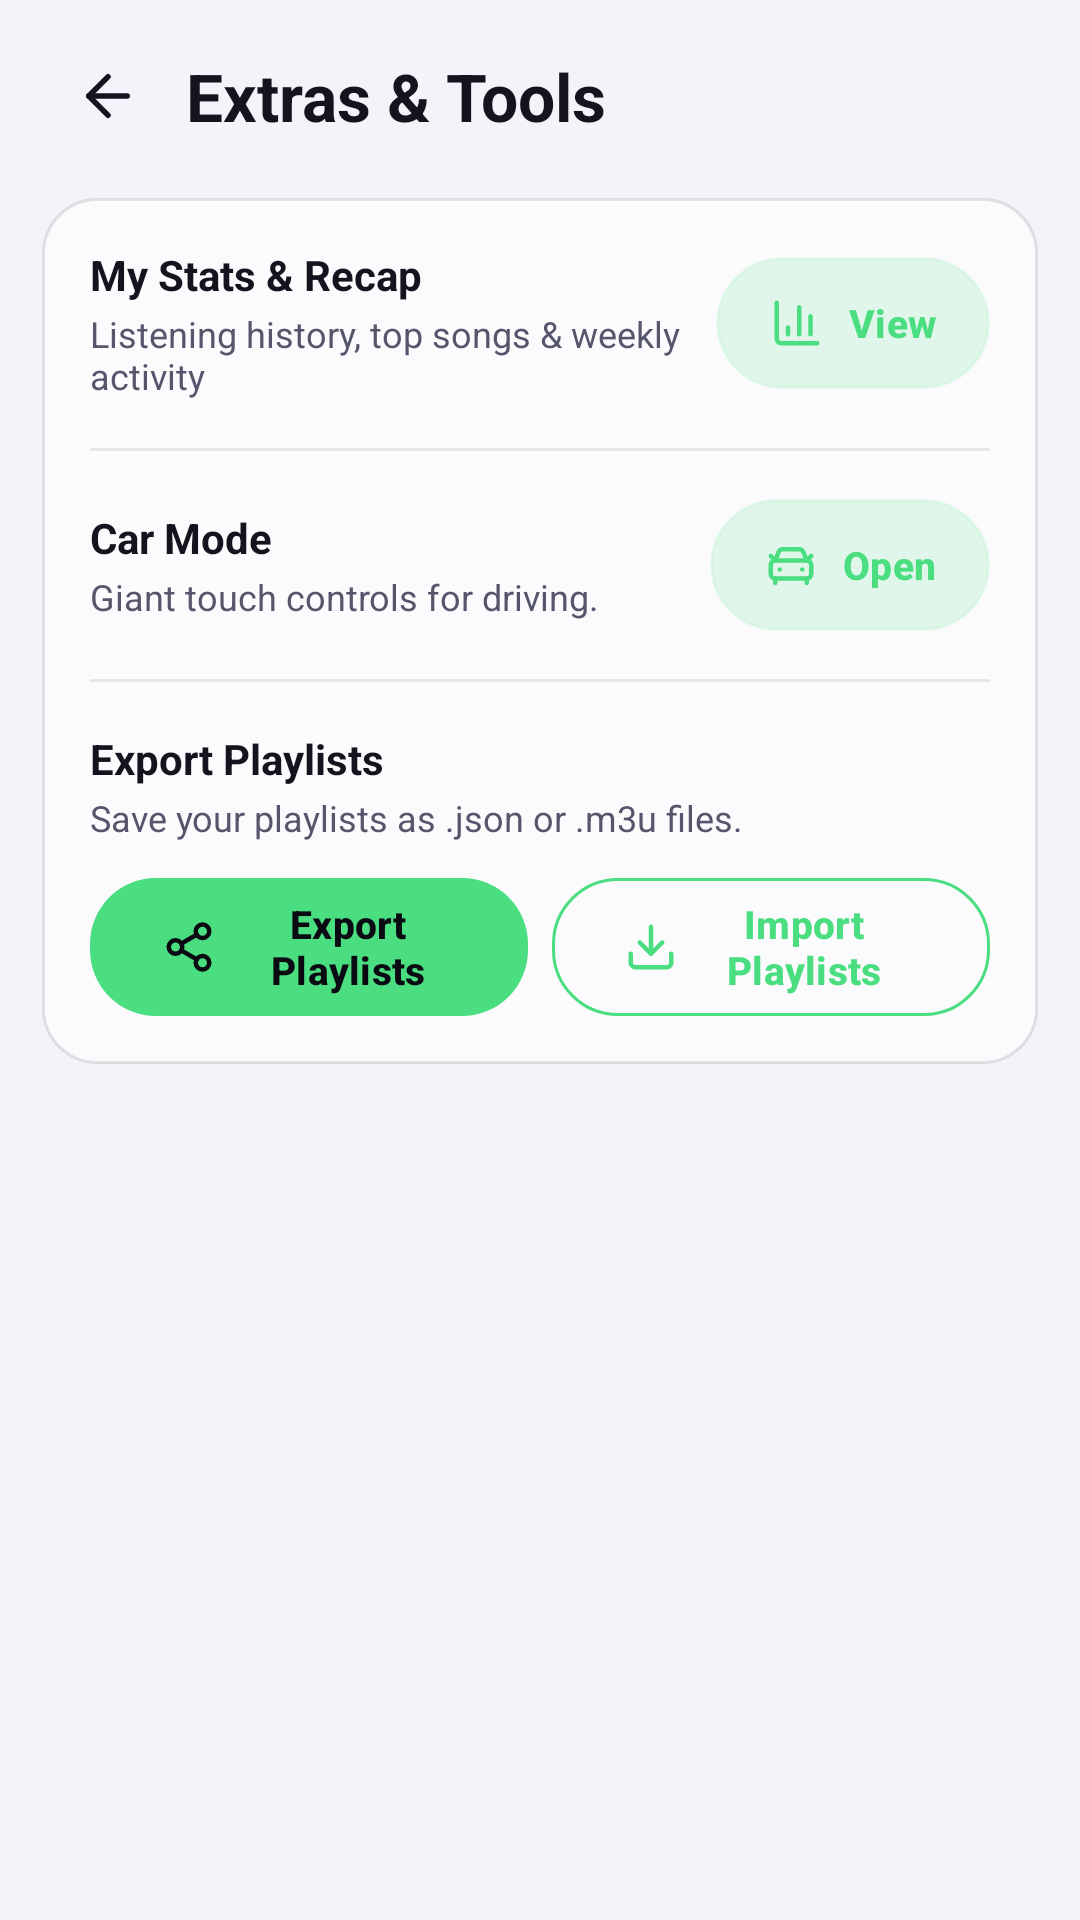

Locate icon controls on the screen. Image size 1080x1920, boxes as (x1, y1, x2, y2).
arrow back: (86, 74, 130, 118)
